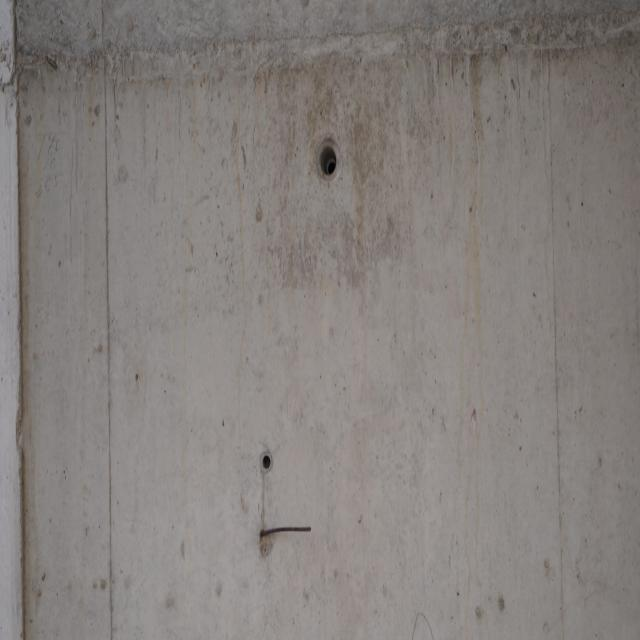Rebar: (259, 526, 312, 559)
diagonal crack: (411, 608, 435, 640)
